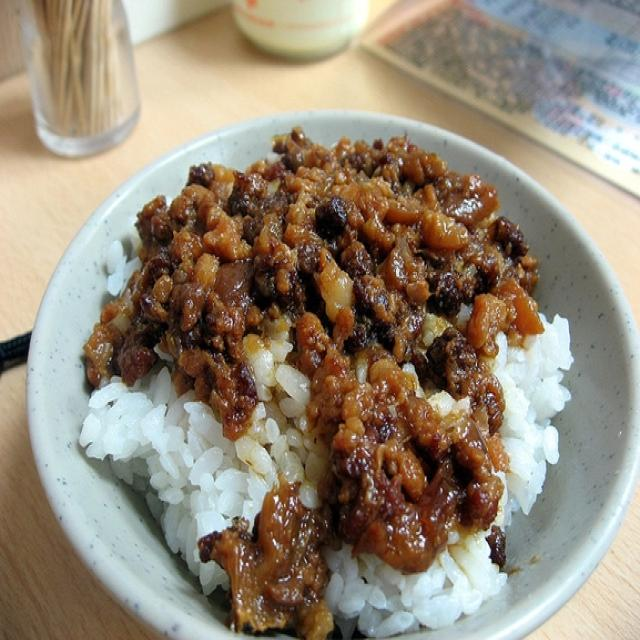猪肉菜式: (48, 104, 586, 634)
